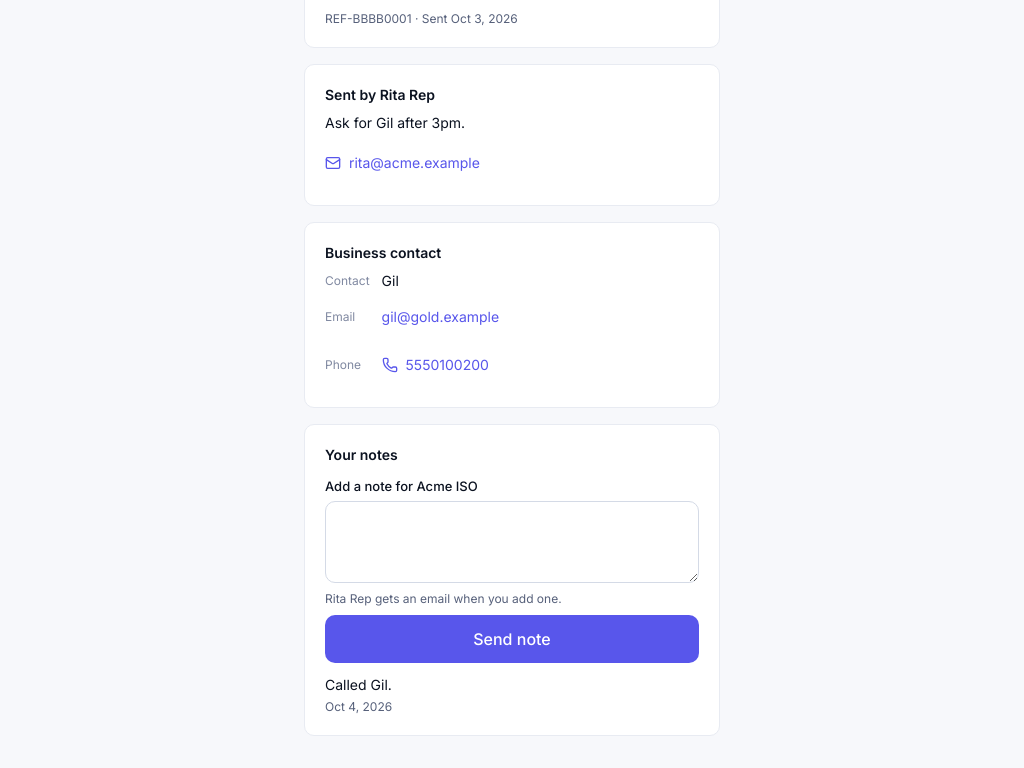
it: PortalSentReferralPage › reloads the referral when it disappeared while a note was posting
(page scrolled)
Type "Hello" into the text box labelled "Add a note for Acme ISO" at (512, 542), box [326,502,698,582]
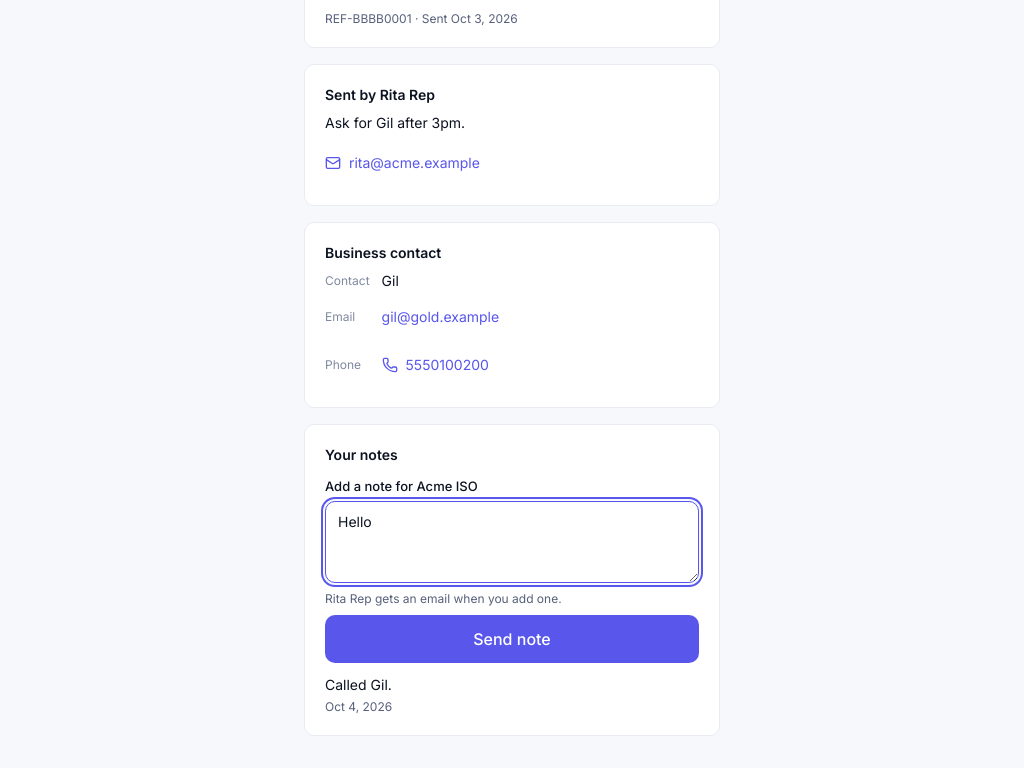
Click the button "Send note" at (512, 639), box [325,615,699,663]
(page scrolled)
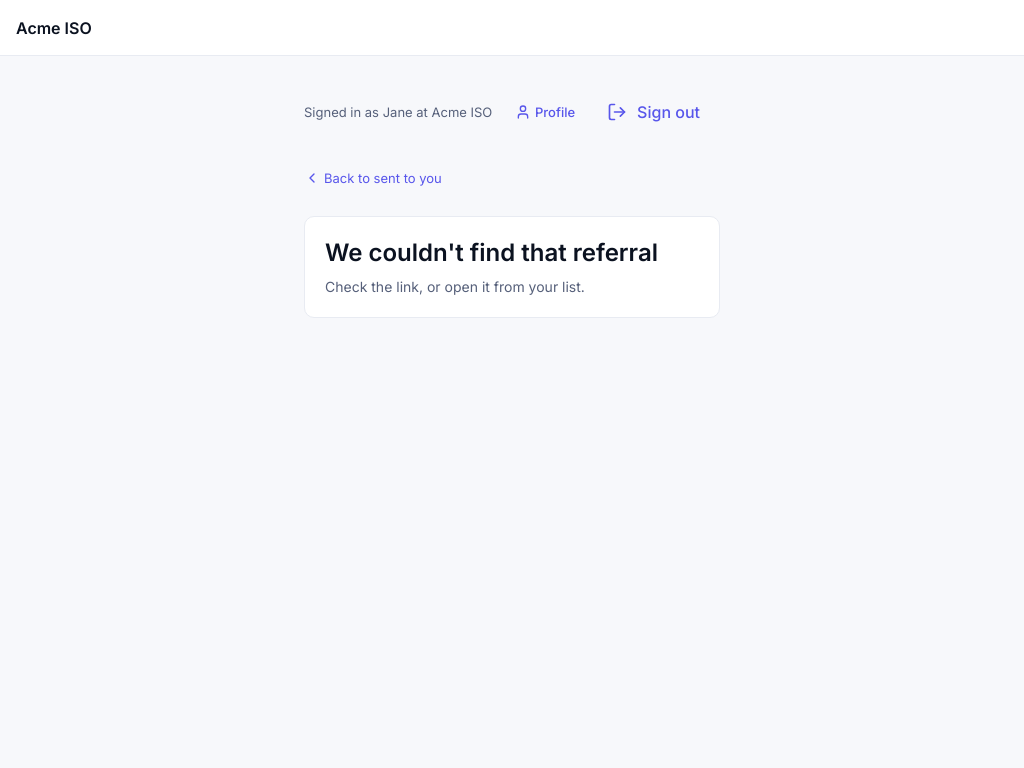
expect the heading "We couldn't find that referral" is shown: met, box [325,237,699,269]
